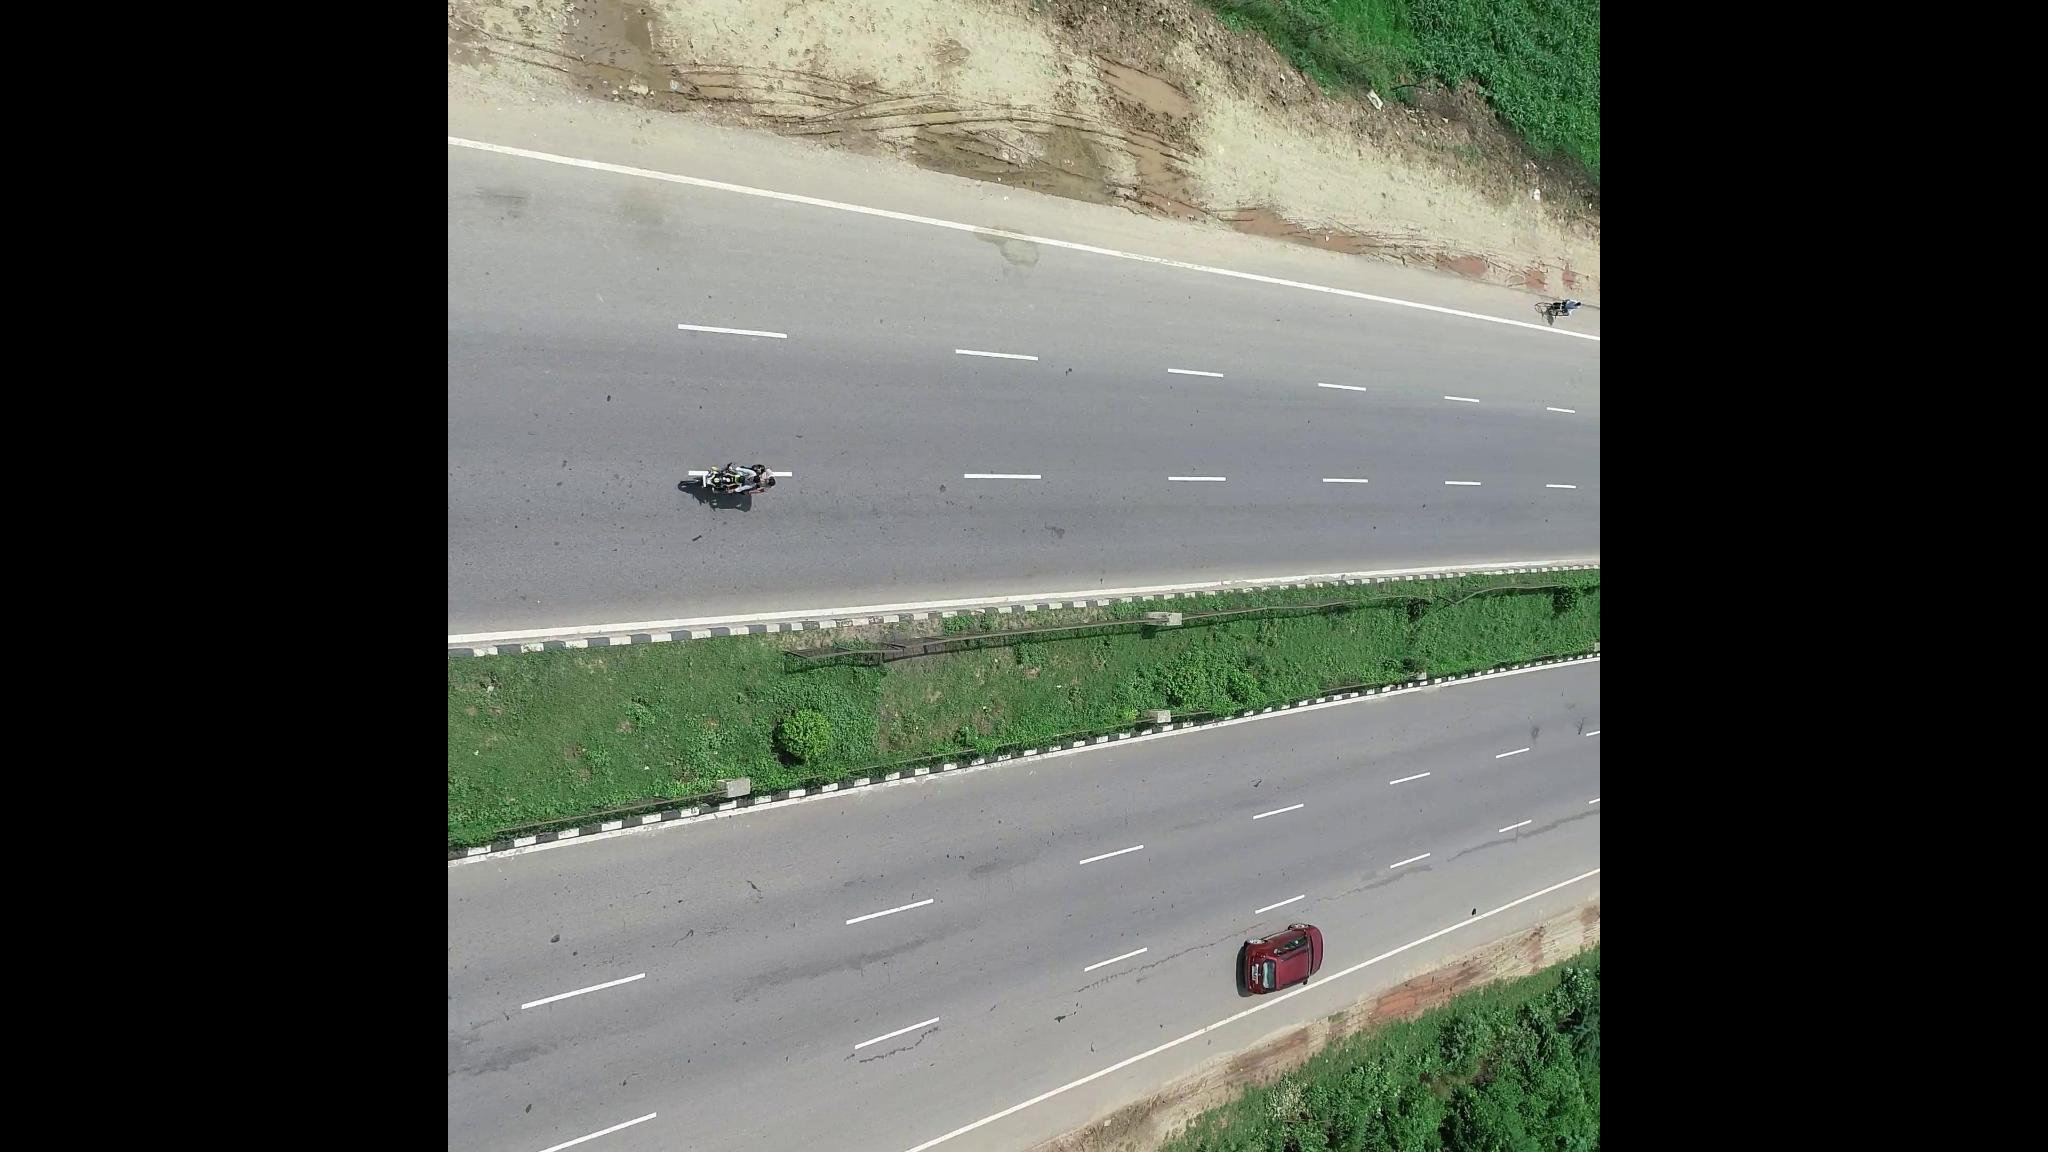Cracks: (1092, 926, 1257, 994)
